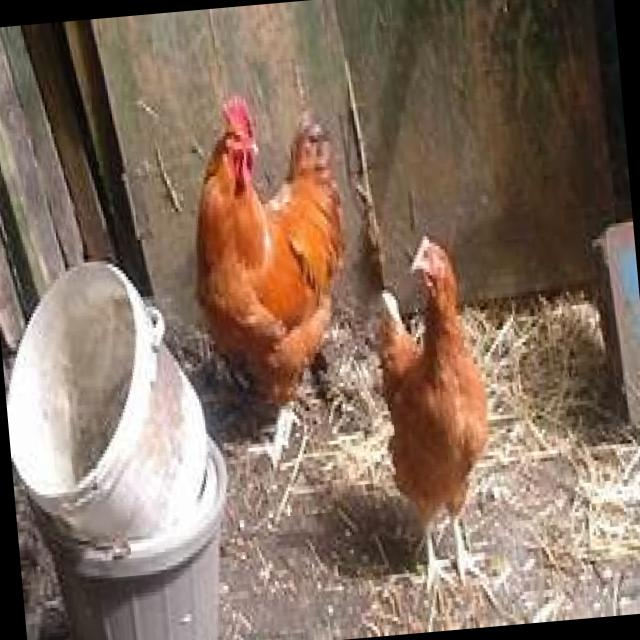chicken: (182, 92, 361, 457), (370, 226, 504, 595)
